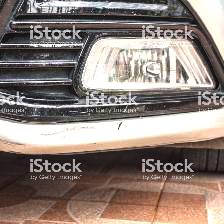bumper_scratch: (21, 103, 157, 155)
